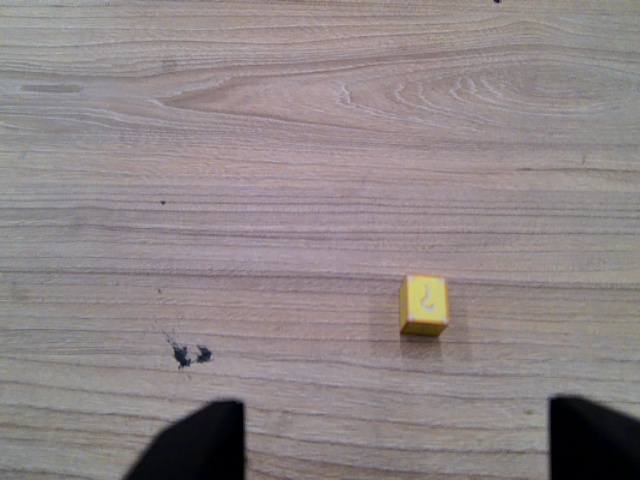lucky: (395, 268, 455, 340)
